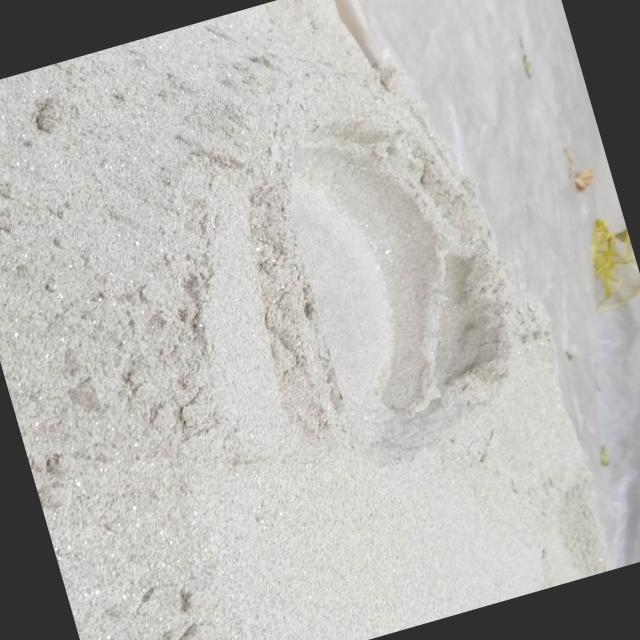C20: (290, 113, 530, 451)
